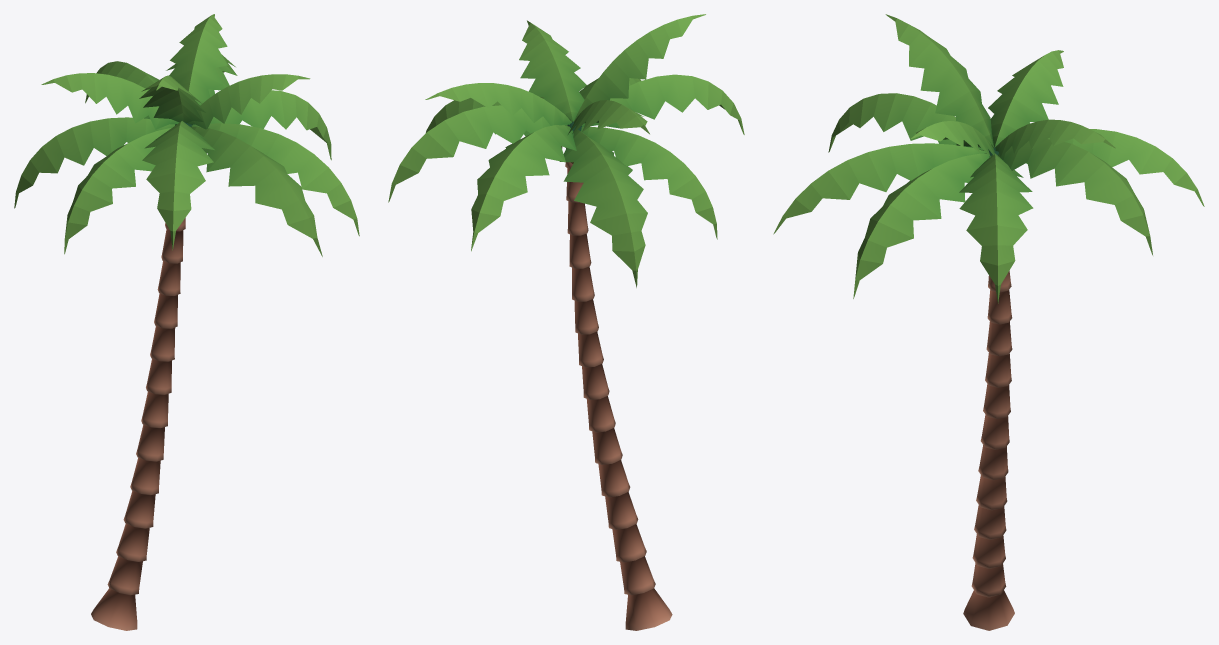
The model's file is palm_tall.glb.
The picture shows the model from 3 angles, left to right: view 1: azimuth 30°, elevation 25°; view 2: azimuth 150°, elevation 25°; view 3: azimuth 270°, elevation 25°; orthographic projection. The views are drawn at different scales.
Parts seen in each view (by area): view 1: palm_tall; view 2: palm_tall; view 3: palm_tall.
Part boxes in pixels (left/top/right/bottom): palm_tall: left=14, top=14, right=359, bottom=630; palm_tall: left=388, top=14, right=744, bottom=630; palm_tall: left=773, top=14, right=1204, bottom=630.
Bounding box in the file's own units: 5.9 × 11.57 × 7.51.
